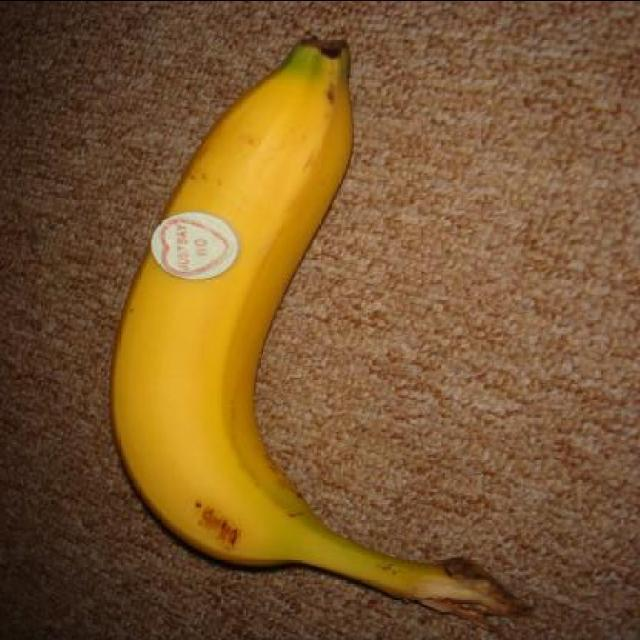Banana: (107, 35, 536, 633)
